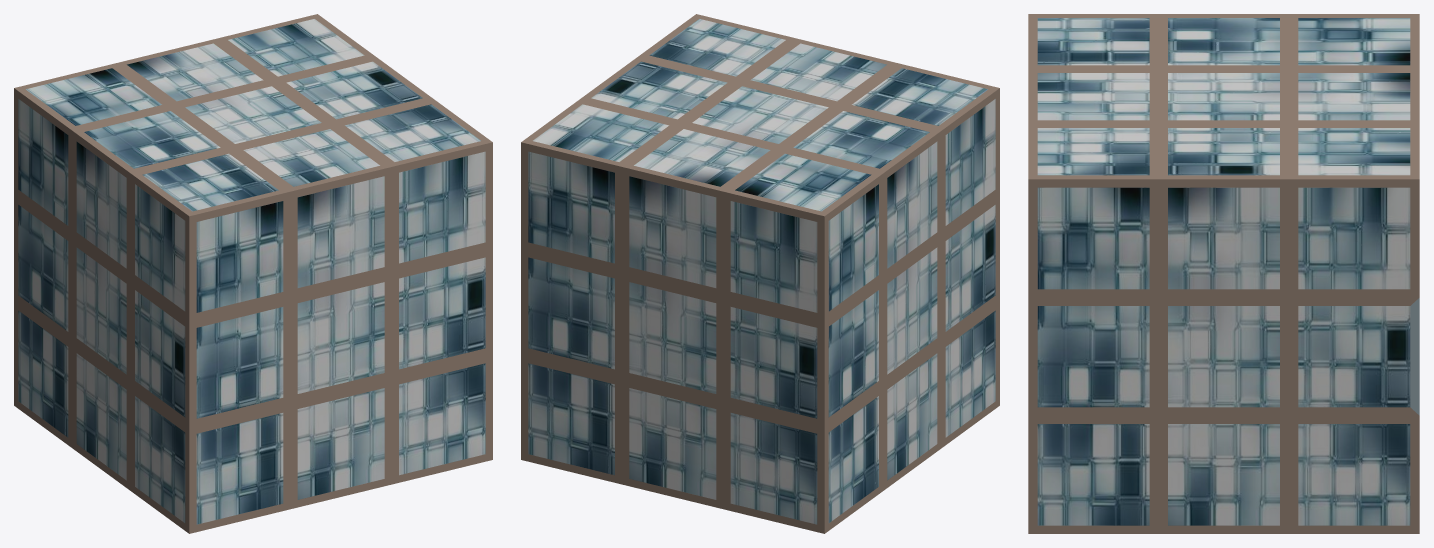
3 renders of one model, left to right at view 1: azimuth 30°, elevation 25°; view 2: azimuth 150°, elevation 25°; view 3: azimuth 270°, elevation 25°, orthographic. The views are drawn at different scales.
Visible parts, largest first — view 1: Box; view 2: Box; view 3: Box.
Part boxes in pixels (x1,y1,x2,y2): Box: (14,14,492,533); Box: (521,14,999,533); Box: (1028,14,1419,533).
Size of the model in its own units: 3 by 3 by 3.
2 materials, 2 textured.
